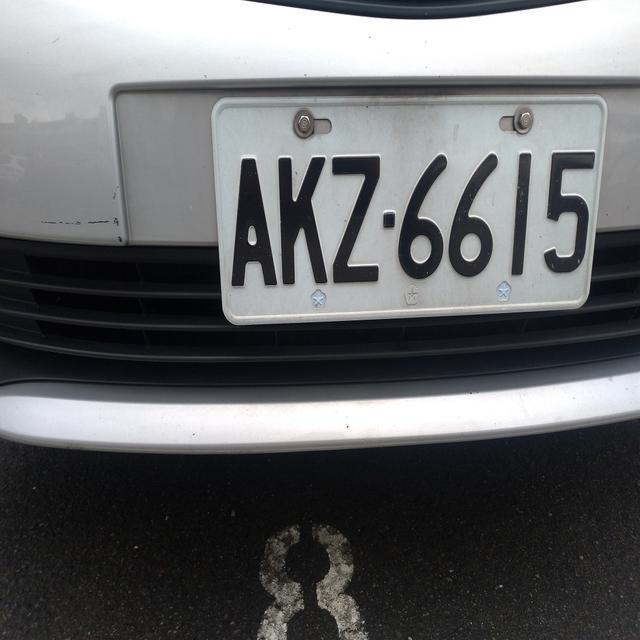license: (212, 140, 602, 295)
